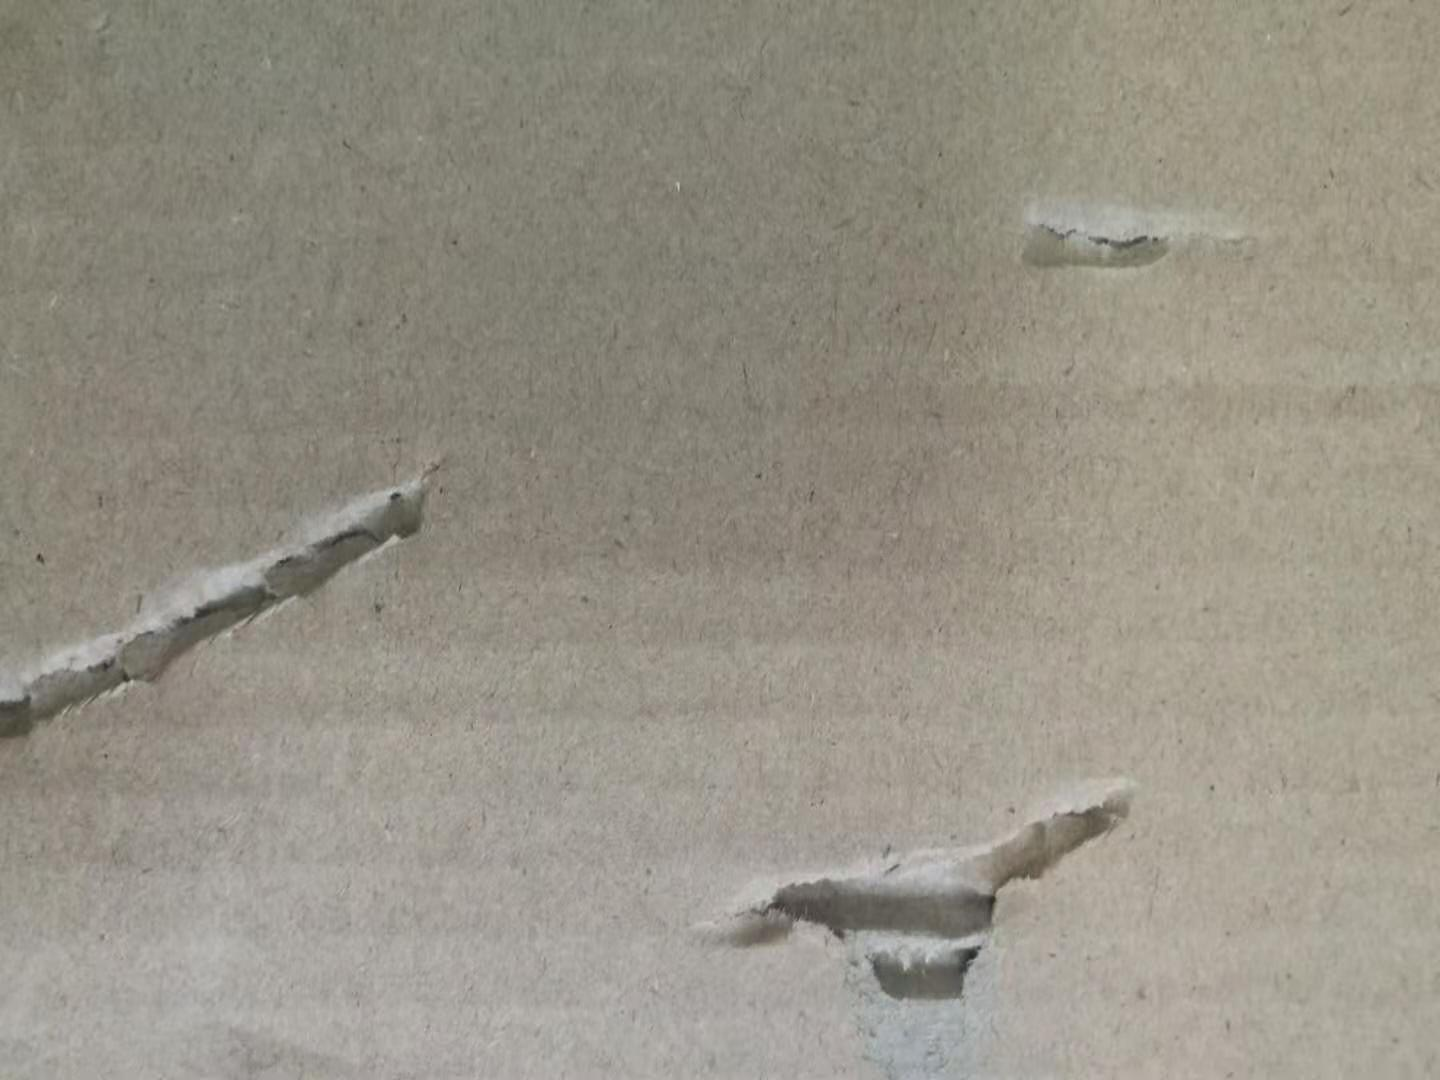defect: (675, 750, 1178, 1080), (1, 434, 480, 779), (986, 184, 1306, 305)
